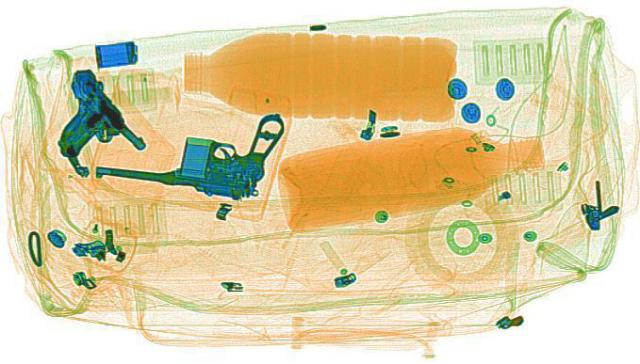Gun: (85, 101, 288, 199), (4, 61, 162, 174)
